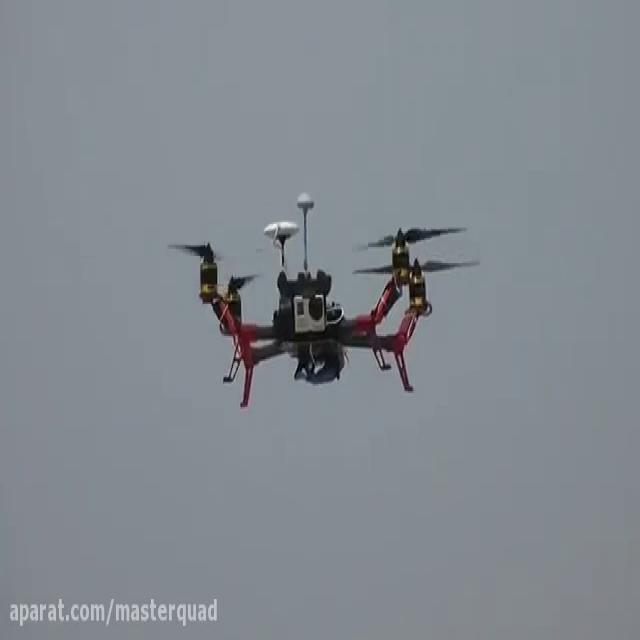drone: (164, 181, 483, 411)
